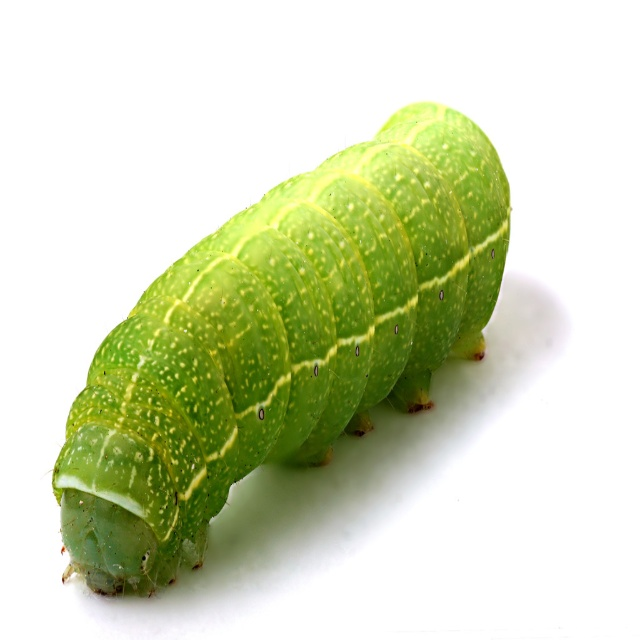Caterpillar: (43, 98, 514, 597)
